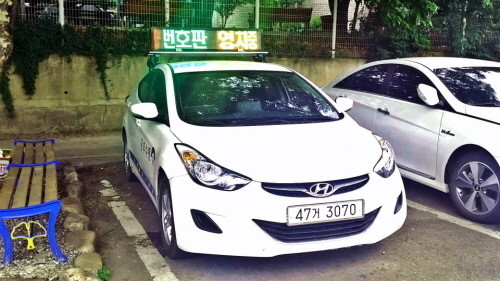car: (285, 202, 364, 225)
